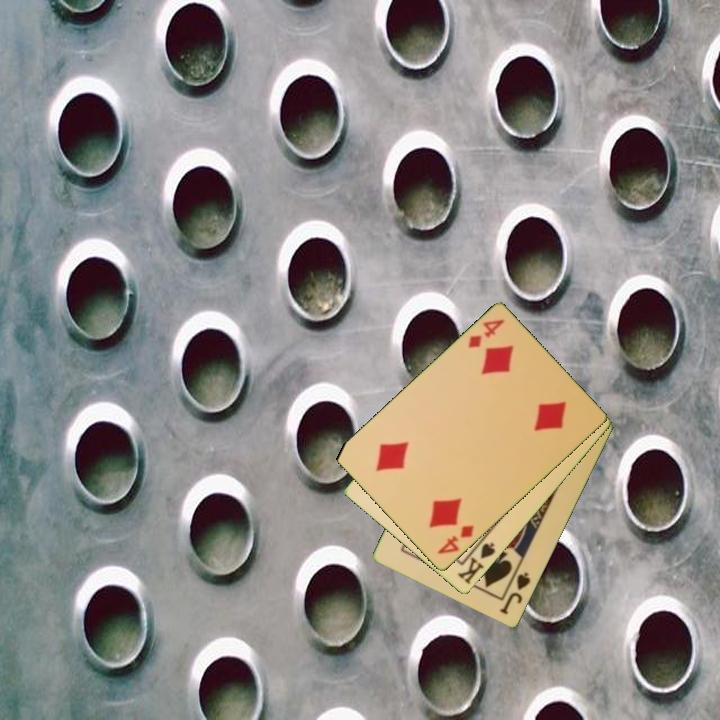4d: (434, 522, 477, 557), (465, 316, 507, 351)
Js: (496, 569, 533, 618)
Ks: (454, 539, 498, 588)
